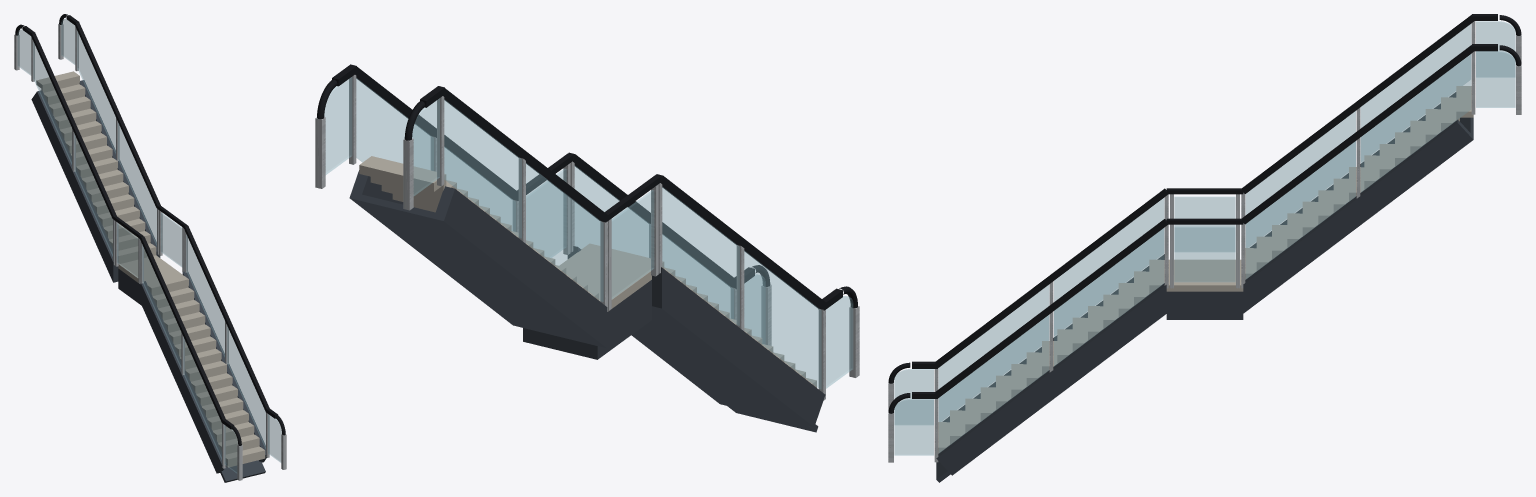
Rendered from stair-centerForward.glb.
3 renders of one model, left to right at view 1: azimuth 30°, elevation 25°; view 2: azimuth 150°, elevation 25°; view 3: azimuth 270°, elevation 25°, orthographic. The views are drawn at different scales.
Parts seen in each view (by area): view 1: StairCenterForward, stair-riser (×25), stair-stringer (×4), stair-landing, stair-landing-surface, stair-soffit, stair-landing-frame; view 2: StairCenterForward, stair-stringer (×4), stair-soffit (×2), stair-landing, stair-landing-frame, stair-landing-surface, stair-tread (×2); view 3: StairCenterForward, stair-stringer (×2), stair-landing, stair-landing-frame, stair-landing-surface.
Part boxes in pixels (x1=…): StairCenterForward: x1=14, y1=14, x2=286, y2=480; stair-riser (×25): x1=41, y1=75, x2=265, y2=467; stair-stringer (×4): x1=31, y1=80, x2=266, y2=473; stair-landing: x1=113, y1=205, x2=187, y2=283; stair-landing-surface: x1=118, y1=255, x2=182, y2=283; stair-soffit: x1=220, y1=460, x2=265, y2=482; stair-landing-frame: x1=118, y1=268, x2=141, y2=305; StairCenterForward: x1=315, y1=64, x2=859, y2=400; stair-stringer (×4): x1=349, y1=170, x2=825, y2=426; stair-soffit (×2): x1=357, y1=194, x2=818, y2=432; stair-landing: x1=517, y1=153, x2=661, y2=310; stair-landing-frame: x1=523, y1=280, x2=651, y2=359; stair-landing-surface: x1=559, y1=252, x2=651, y2=311; stair-tread (×2): x1=359, y1=157, x2=662, y2=269; StairCenterForward: x1=888, y1=14, x2=1521, y2=462; stair-stringer (×2): x1=936, y1=119, x2=1473, y2=475; stair-landing: x1=1166, y1=188, x2=1243, y2=288; stair-landing-frame: x1=1166, y1=291, x2=1243, y2=319; stair-landing-surface: x1=1166, y1=259, x2=1243, y2=291.
Size of the model in its own units: 1 by 6.31 by 8.25.
5 materials, 1 textured.
